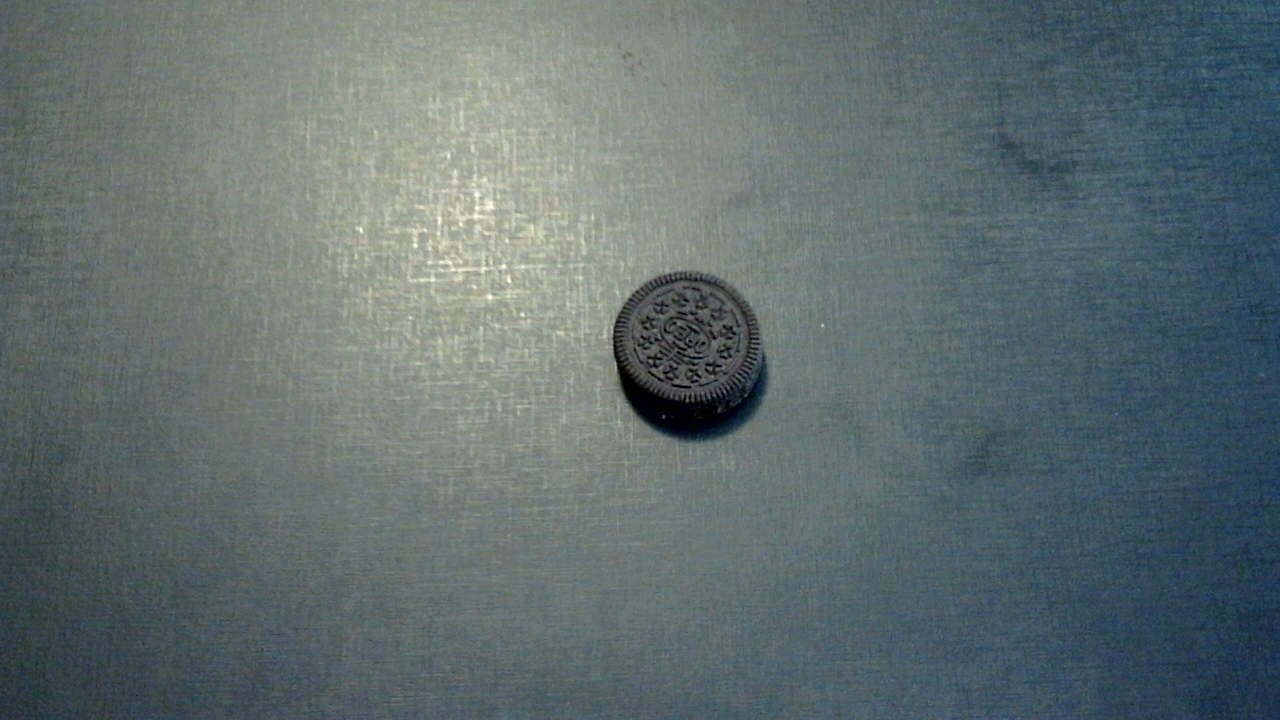oreo: (613, 271, 763, 421)
